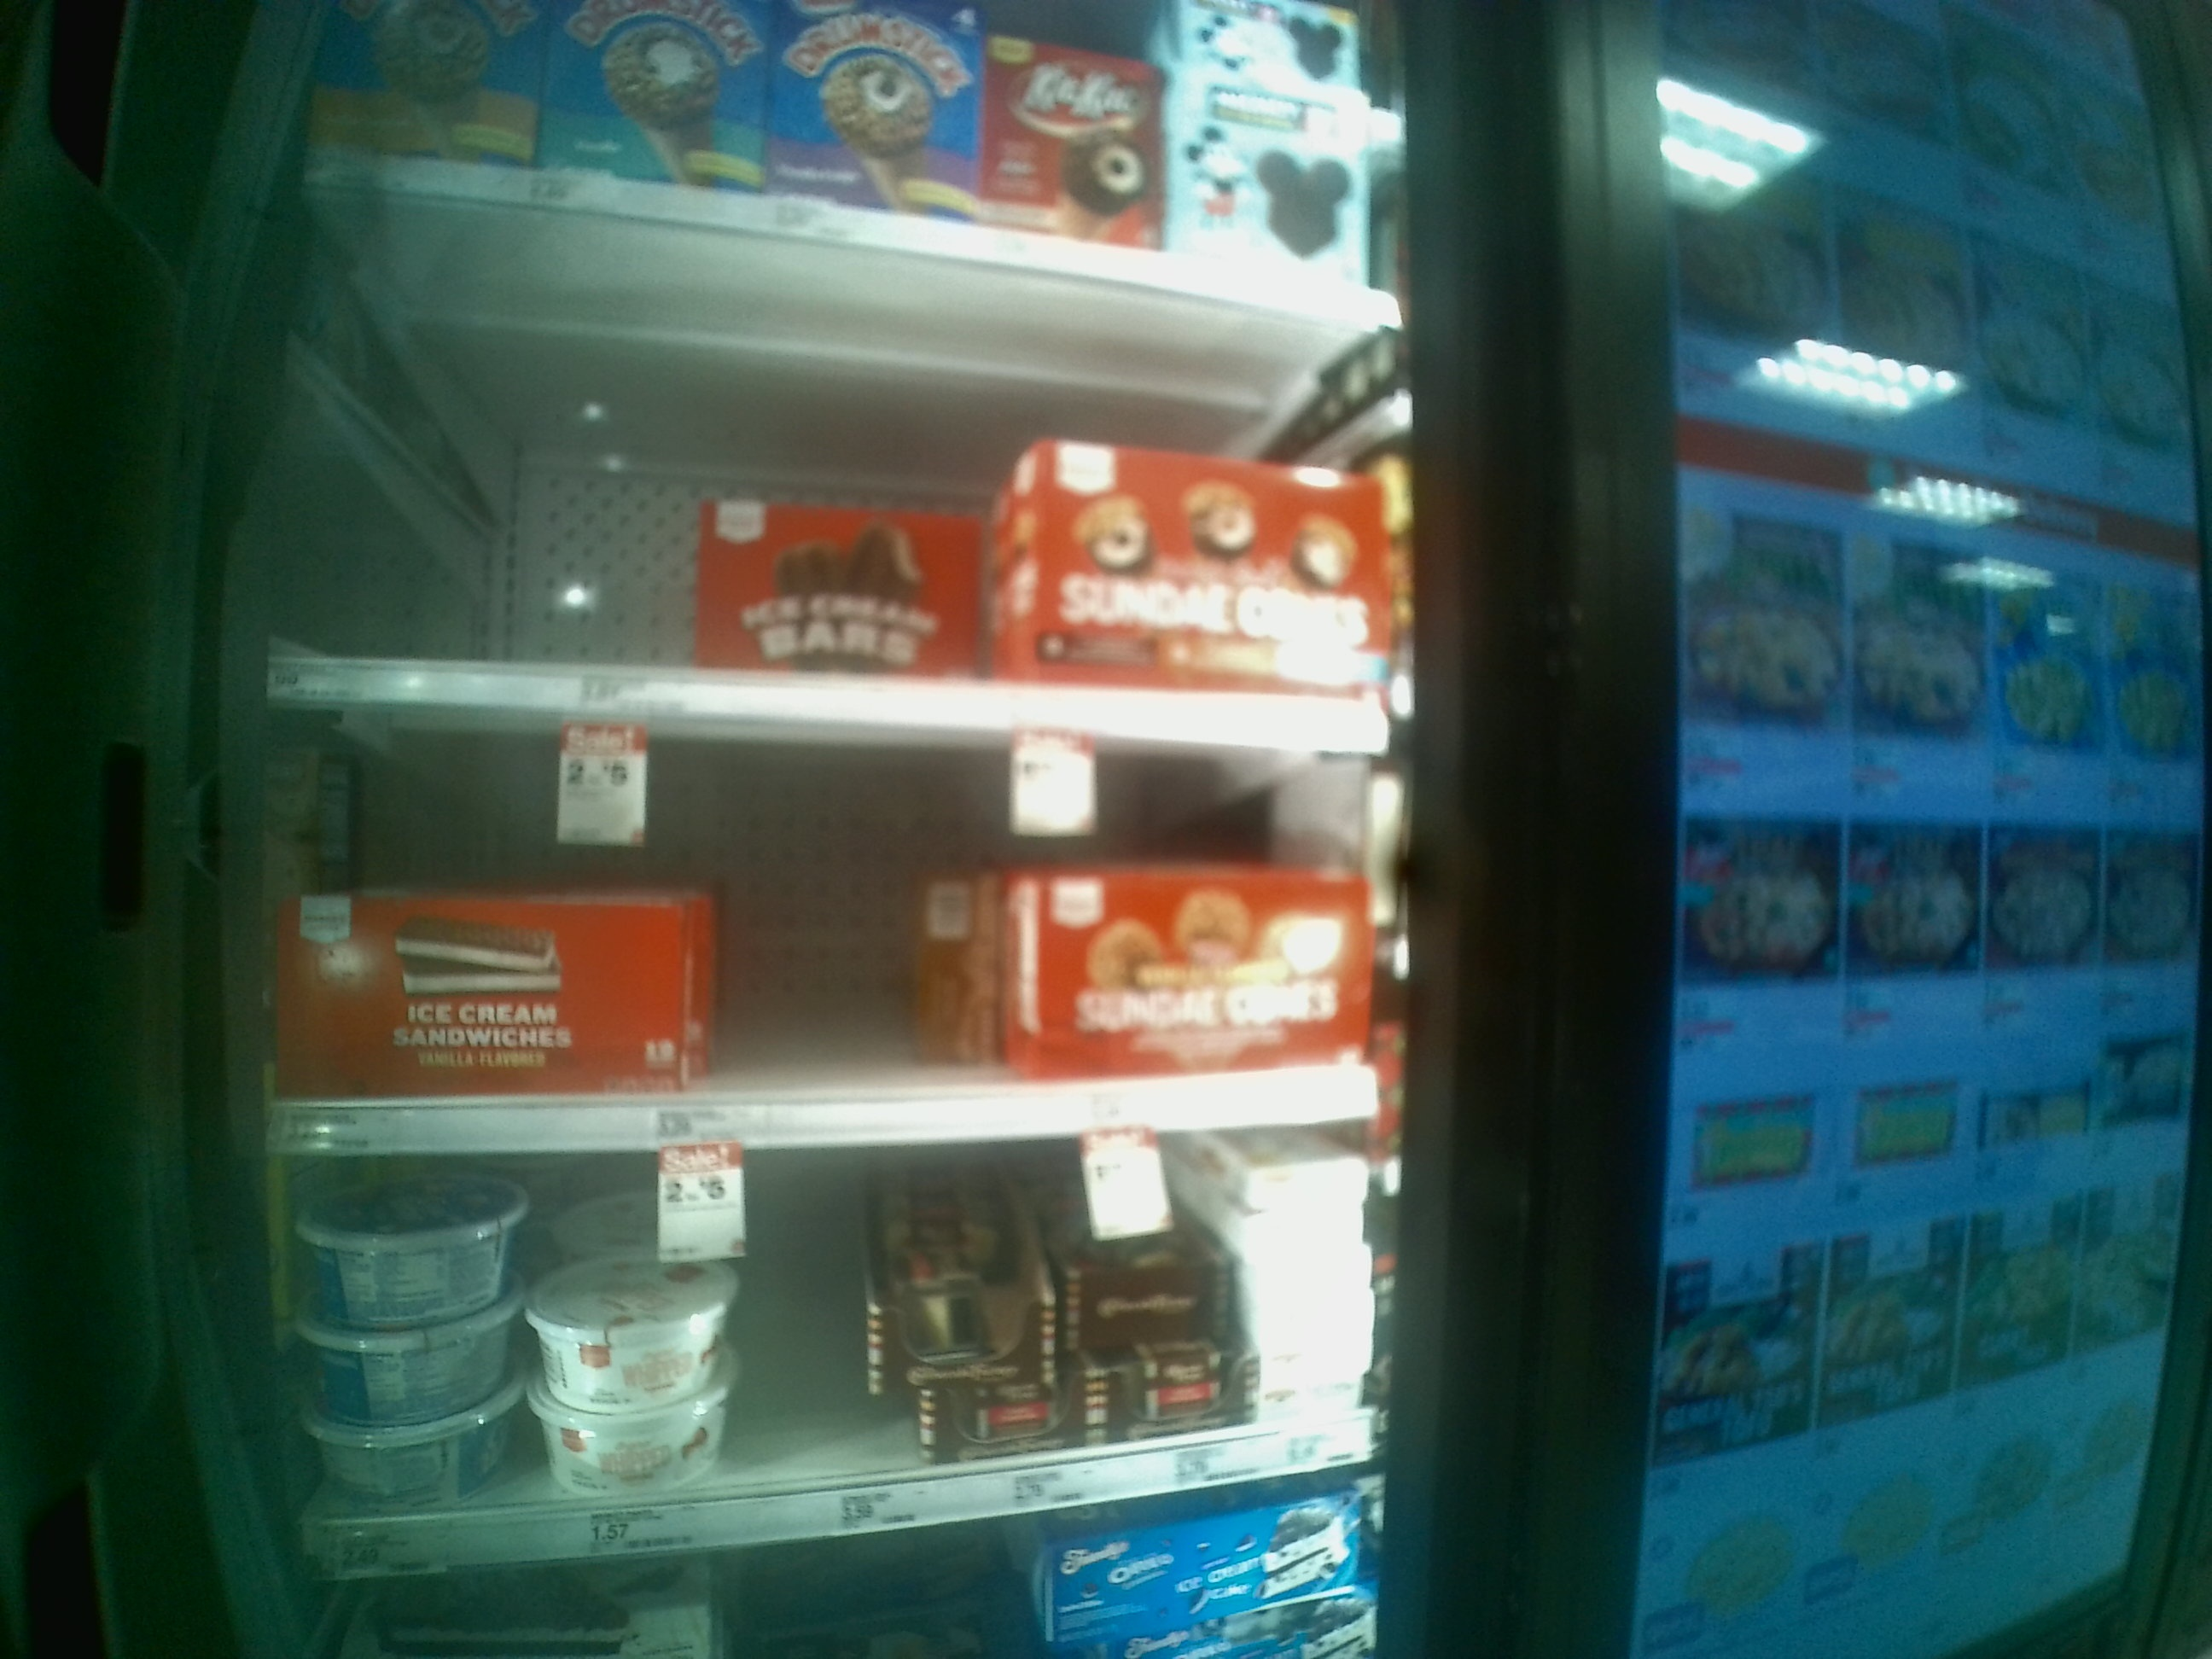shelf: (301, 1148, 1390, 1532)
